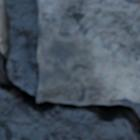brick: (37, 0, 139, 103)
crack: (0, 1, 139, 138)
